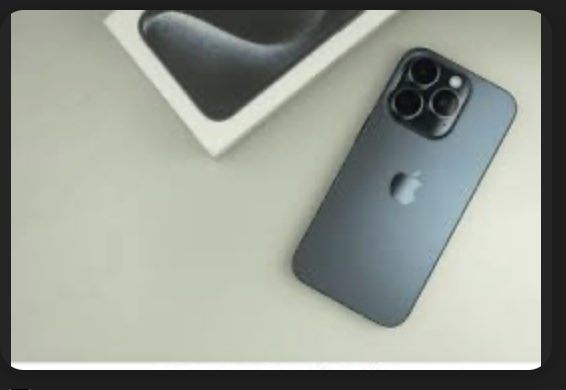phone: (280, 42, 523, 327)
